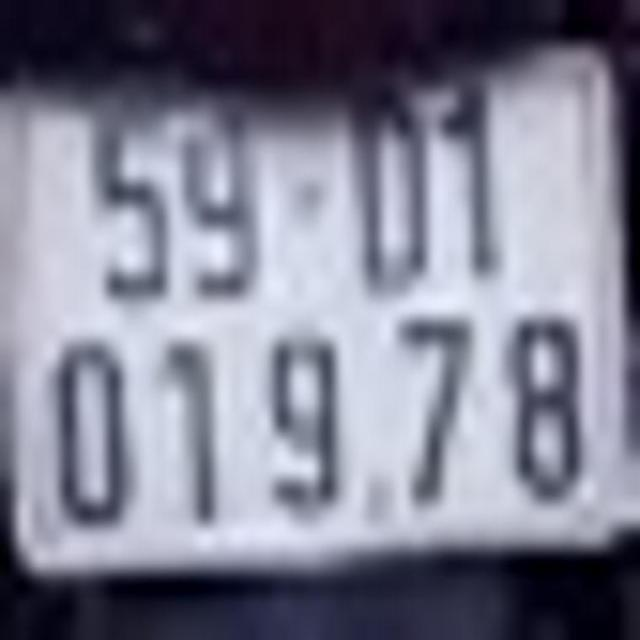0: (56, 337, 130, 529)
1: (439, 80, 500, 282), (157, 330, 218, 529)
5: (92, 106, 172, 304)
7: (394, 312, 474, 507)
8: (513, 307, 584, 511)
9: (180, 97, 259, 304), (264, 326, 340, 516)
D: (353, 85, 431, 298)
